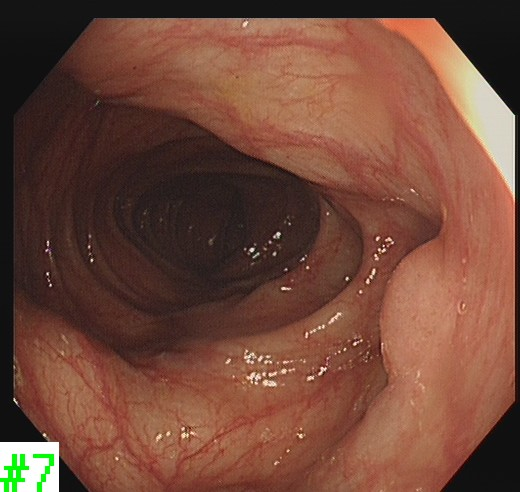adenoma: (375, 233, 451, 383)
